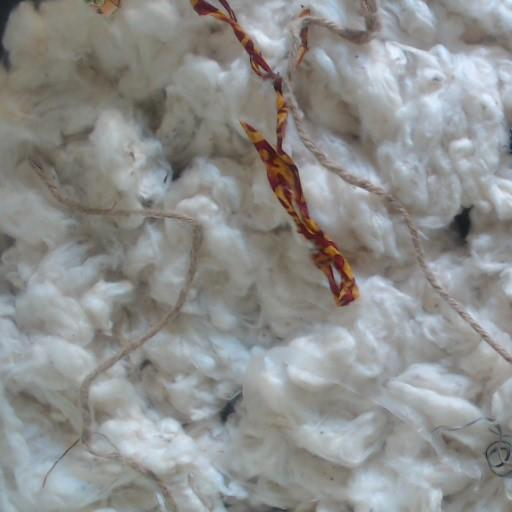cotton: (0, 0, 511, 511), (191, 0, 358, 304)
jute: (284, 78, 511, 364), (32, 158, 202, 486), (298, 7, 339, 32), (291, 40, 304, 65)
